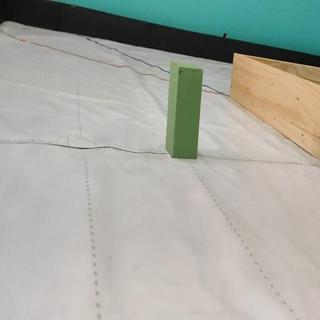greenbox: (167, 60, 203, 158)
